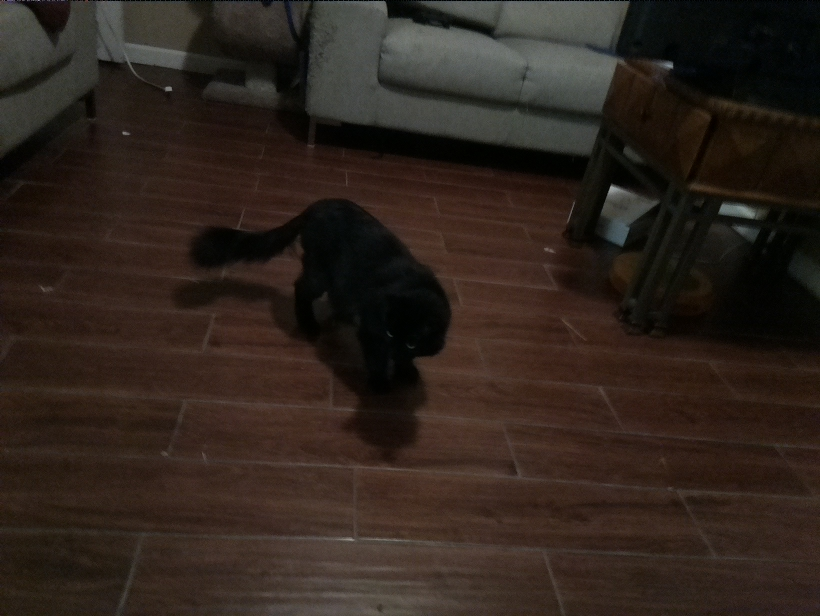cat: (178, 192, 455, 391)
